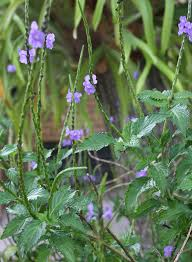snakeweed: (6, 167, 131, 254)
